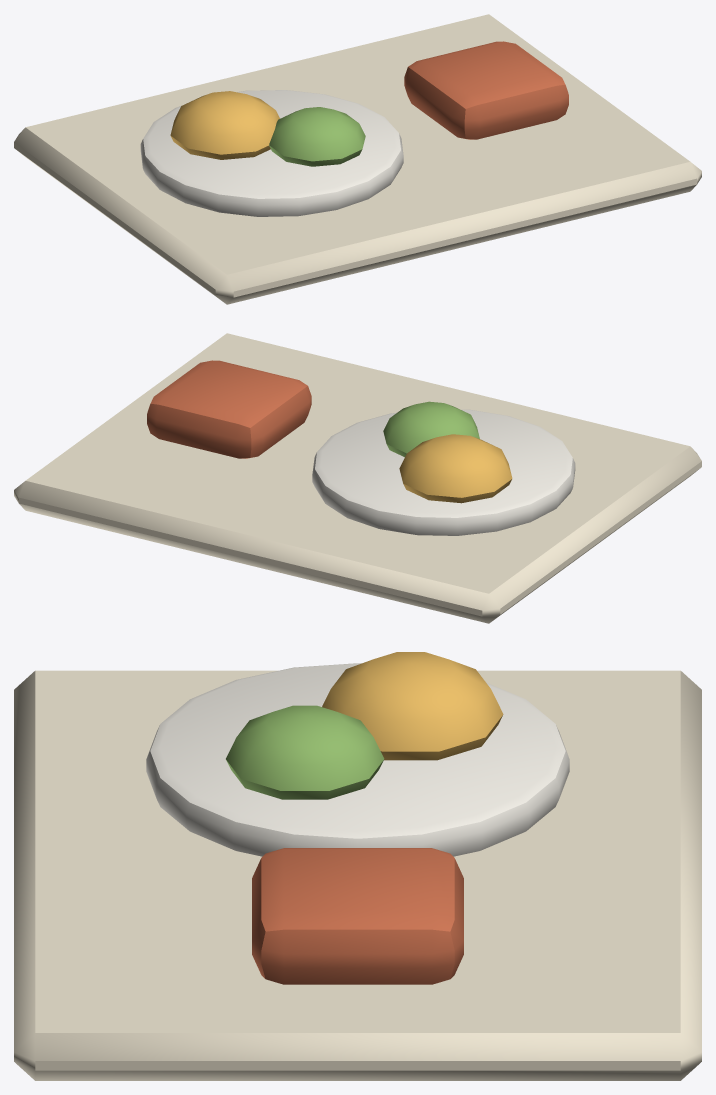
File: meal_tray.glb
3 renders of one model, top to bottom at view 1: azimuth 30°, elevation 25°; view 2: azimuth 150°, elevation 25°; view 3: azimuth 270°, elevation 25°, orthographic. The views are drawn at different scales.
Visible parts, largest first — view 1: cream, sheet, food_c, food_a, food_b; view 2: cream, sheet, food_c, food_a, food_b; view 3: cream, sheet, food_c, food_a, food_b.
Part boxes in pixels (bbox=[...]): cream: bbox=[14, 14, 701, 304]; sheet: bbox=[140, 90, 403, 216]; food_c: bbox=[404, 41, 568, 139]; food_a: bbox=[170, 91, 279, 159]; food_b: bbox=[269, 107, 365, 166]; cream: bbox=[14, 333, 701, 623]; sheet: bbox=[312, 409, 575, 535]; food_c: bbox=[147, 360, 311, 458]; food_a: bbox=[399, 434, 512, 503]; food_b: bbox=[383, 401, 479, 457]; cream: bbox=[14, 670, 701, 1080]; sheet: bbox=[146, 663, 569, 856]; food_c: bbox=[252, 848, 463, 984]; food_a: bbox=[322, 652, 503, 760]; food_b: bbox=[226, 705, 384, 799].
Size of the model in its own units: 0.34 by 0.061 by 0.26.
